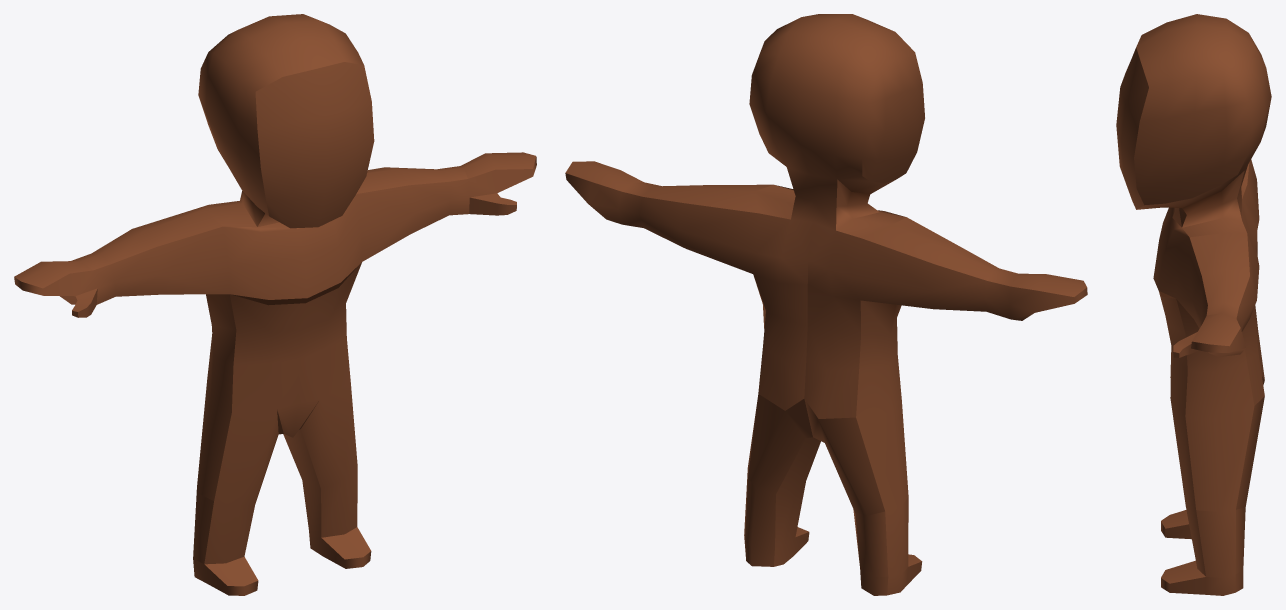
3 views of the same model, side by side, from view 1: azimuth 30°, elevation 25°; view 2: azimuth 150°, elevation 25°; view 3: azimuth 270°, elevation 25° (orthographic).
Parts seen in each view (by area): view 1: BaseCharMesh; view 2: BaseCharMesh; view 3: BaseCharMesh.
Part boxes in pixels (<box>): BaseCharMesh: <box>14,14,536,595</box>; BaseCharMesh: <box>565,14,1087,595</box>; BaseCharMesh: <box>1116,14,1271,595</box>.
Size of the model in its own units: 194 by 197 by 51.81.
